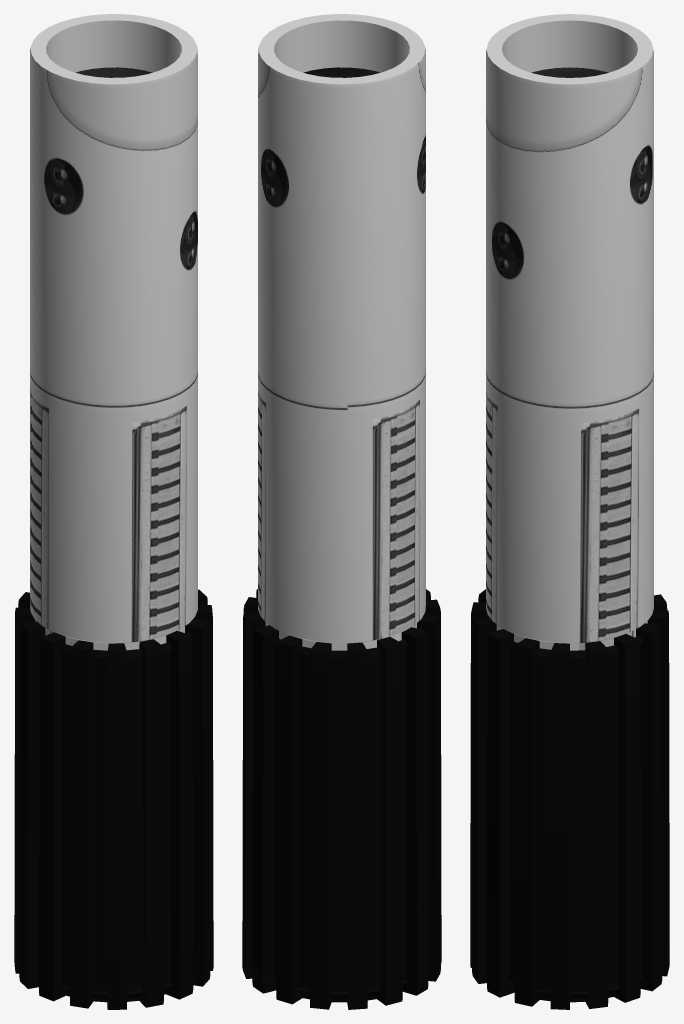
Rendered from Saber.fbx.
The picture shows the model from 3 angles, left to right: view 1: azimuth 30°, elevation 25°; view 2: azimuth 150°, elevation 25°; view 3: azimuth 270°, elevation 25°; orthographic projection.
Parts seen in each view (by area): view 1: Cylinder; view 2: Cylinder; view 3: Cylinder.
Boxes of the visible parts, x1=… form: Cylinder: x1=14, y1=14, x2=213, y2=1009; Cylinder: x1=242, y1=14, x2=441, y2=1009; Cylinder: x1=470, y1=14, x2=669, y2=1009.
Size of the model in its own units: 237 by 1207 by 237.
